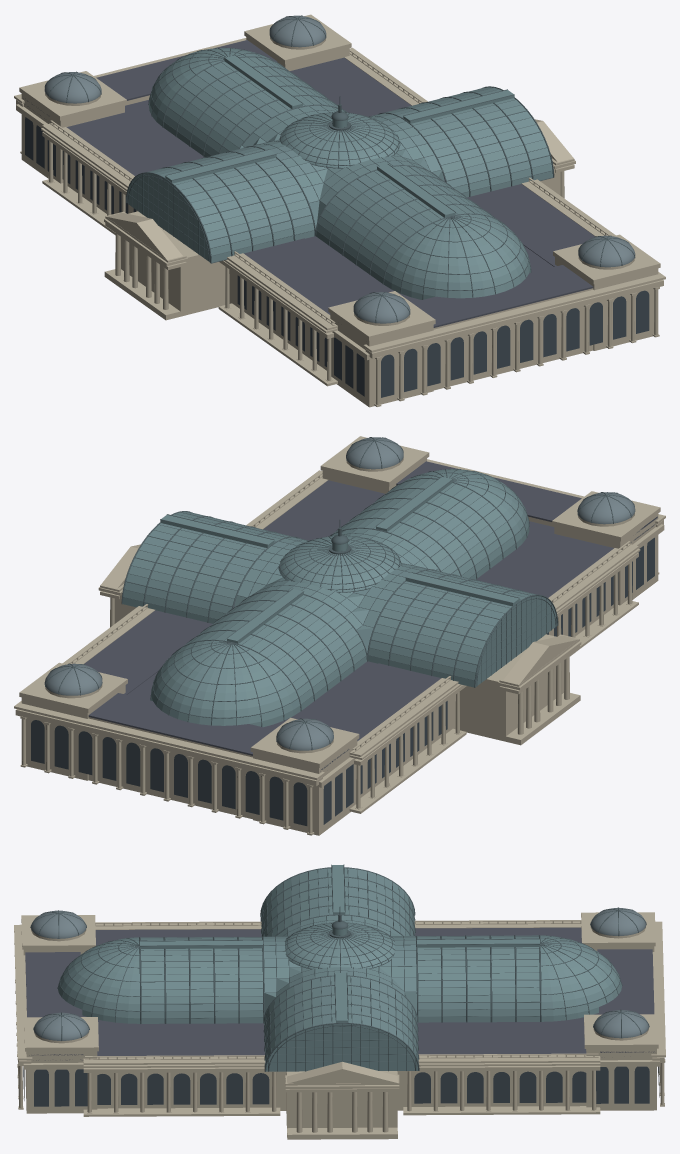
Rendered from paris-grand-palais-near.glb.
3 renders of one model, top to bottom at view 1: azimuth 30°, elevation 25°; view 2: azimuth 150°, elevation 25°; view 3: azimuth 270°, elevation 25°, orthographic. The views are drawn at different scales.
Visible parts, largest first — view 1: paris-grand-palais-glass, paris-grand-palais-stone, paris-grand-palais-roof, paris-grand-palais-iron, paris-grand-palais-shadow, paris-grand-palais-roofLight; view 2: paris-grand-palais-glass, paris-grand-palais-stone, paris-grand-palais-roof, paris-grand-palais-iron, paris-grand-palais-shadow, paris-grand-palais-roofLight; view 3: paris-grand-palais-glass, paris-grand-palais-stone, paris-grand-palais-roof, paris-grand-palais-iron, paris-grand-palais-shadow, paris-grand-palais-roofLight.
Boxes of the visible parts, box(x1,y1,x2,y2) form: paris-grand-palais-glass: box(126, 48, 552, 299); paris-grand-palais-stone: box(14, 14, 665, 407); paris-grand-palais-roof: box(23, 40, 594, 327); paris-grand-palais-iron: box(44, 15, 635, 323); paris-grand-palais-shadow: box(25, 117, 649, 397); paris-grand-palais-roofLight: box(44, 15, 635, 323); paris-grand-palais-glass: box(123, 469, 557, 727); paris-grand-palais-stone: box(14, 436, 665, 835); paris-grand-palais-roof: box(84, 461, 657, 771); paris-grand-palais-iron: box(45, 437, 634, 750); paris-grand-palais-shadow: box(31, 537, 654, 825); paris-grand-palais-roofLight: box(44, 437, 635, 750); paris-grand-palais-glass: box(58, 865, 621, 1071); paris-grand-palais-stone: box(14, 912, 665, 1139); paris-grand-palais-roof: box(25, 927, 654, 1060); paris-grand-palais-iron: box(30, 864, 649, 1071); paris-grand-palais-shadow: box(23, 1066, 659, 1106); paris-grand-palais-roofLight: box(31, 907, 648, 1040).
Size of the model in its own units: 166 by 58 by 246.
